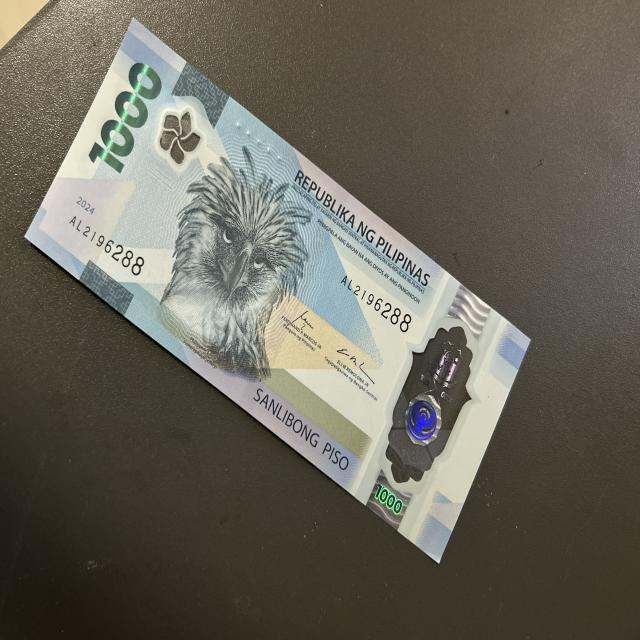clear_window: (386, 307, 465, 512)
eagle: (166, 153, 308, 373)
sampaguita: (156, 102, 216, 164)
serial_number: (331, 266, 415, 338), (65, 211, 149, 278)
value: (91, 61, 164, 207)
